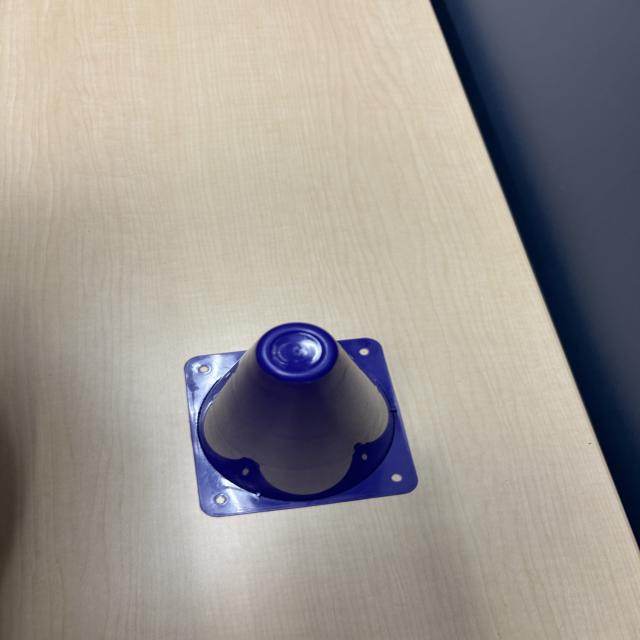purple cone: (163, 322, 424, 516)
